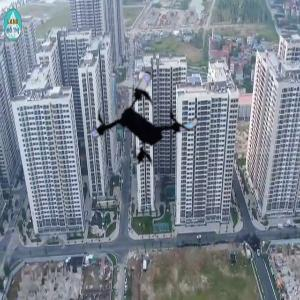drone: (91, 63, 202, 174)
